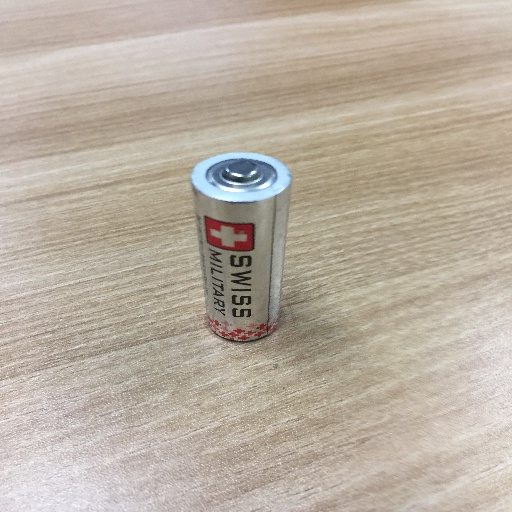Battery_0: (182, 144, 297, 352)
